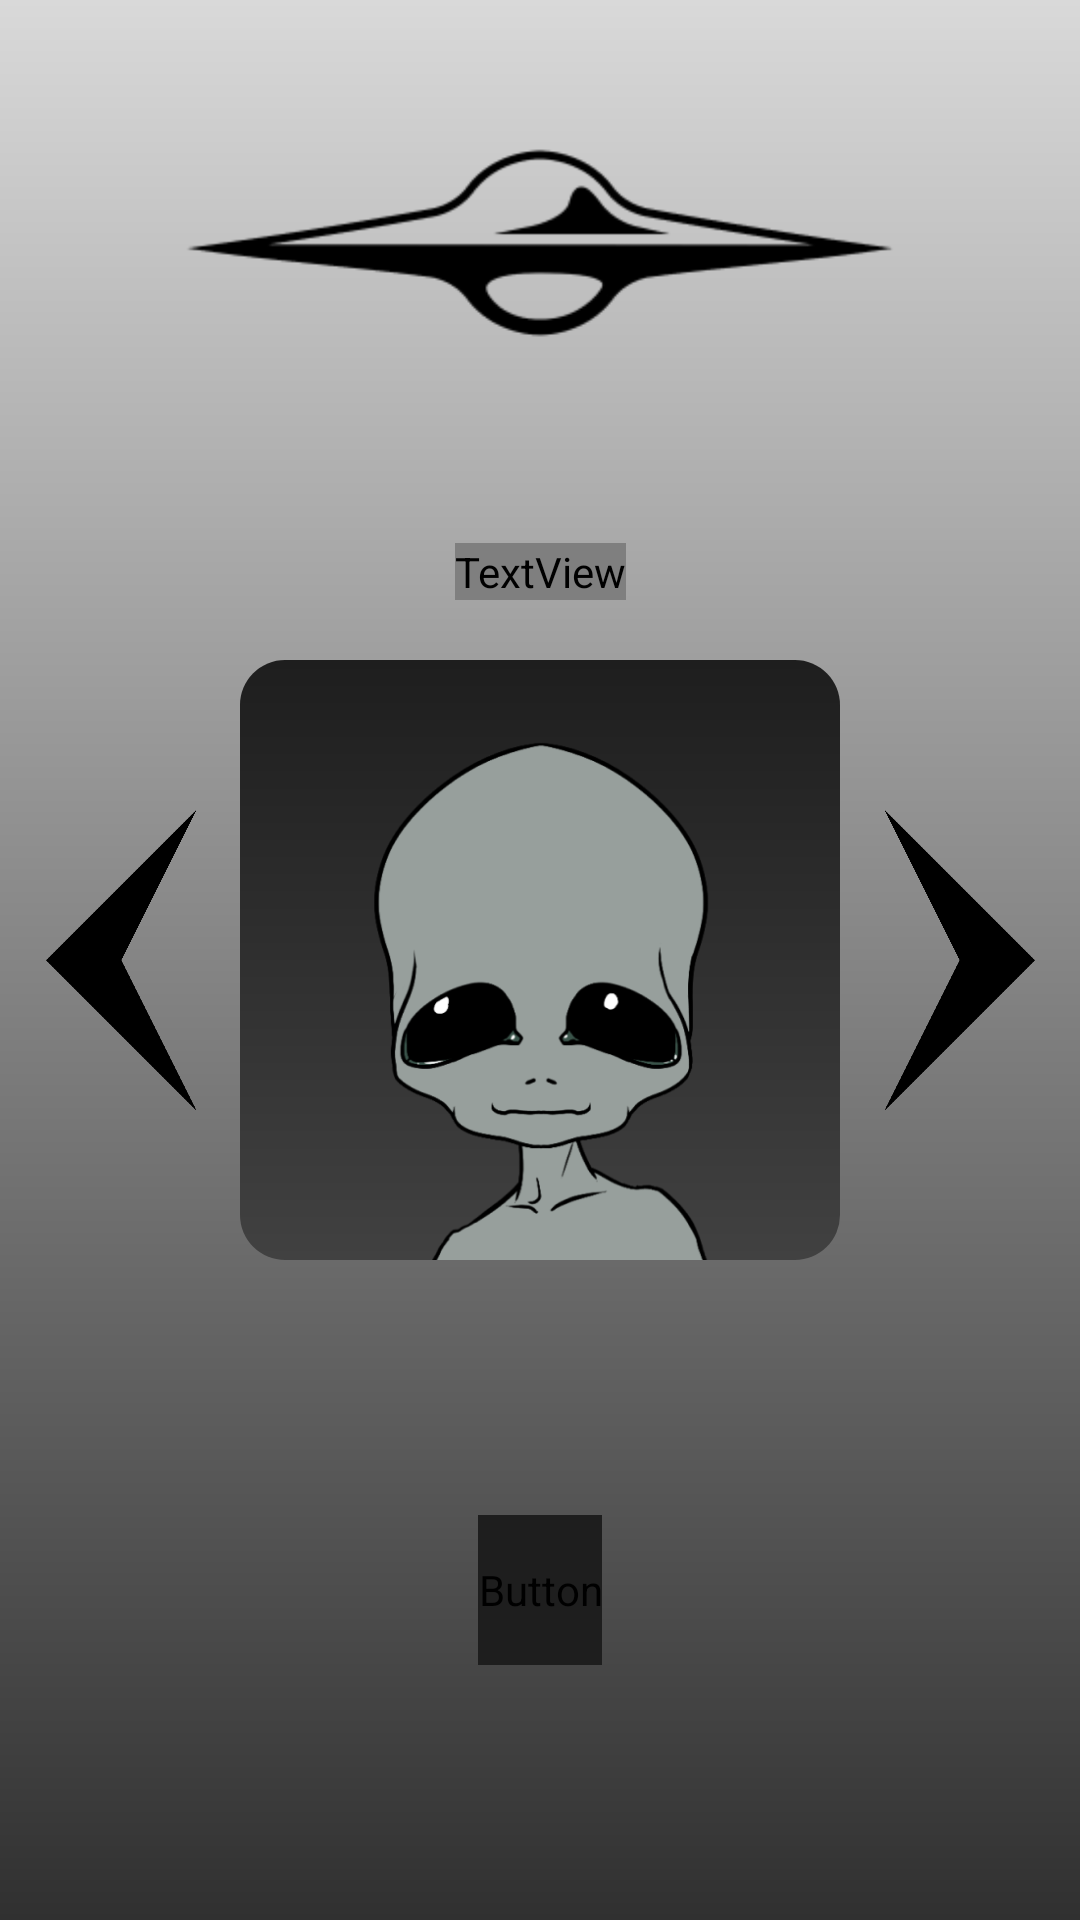

Screen size 1080 x 1920. Icon name, then its center in pixels as (x=x, y=y):
left arrow: (x=135, y=960)
right arrow: (x=945, y=960)
